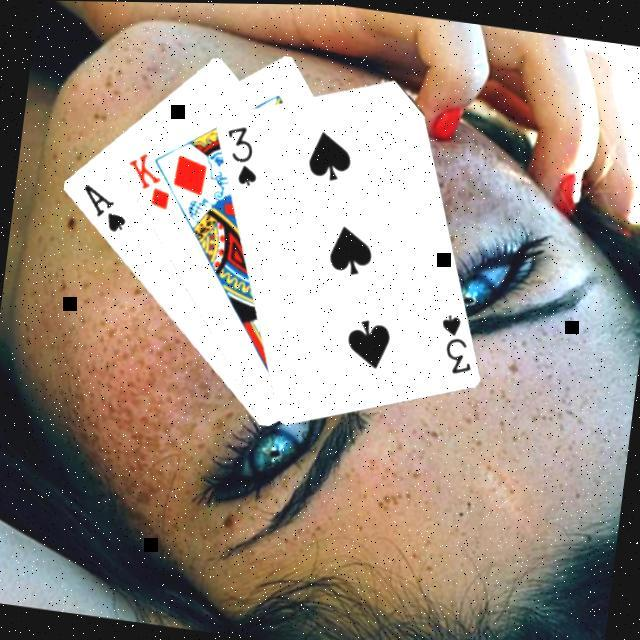3S: (218, 118, 266, 188), (432, 306, 480, 376)
AS: (75, 178, 133, 235)
KD: (120, 145, 178, 212)
